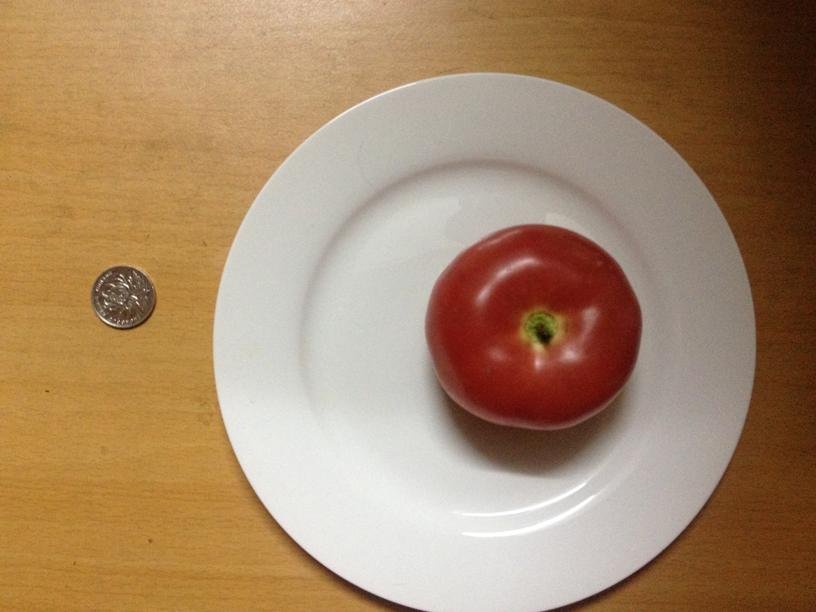coin: (87, 264, 159, 330)
tomato: (430, 224, 642, 434)
